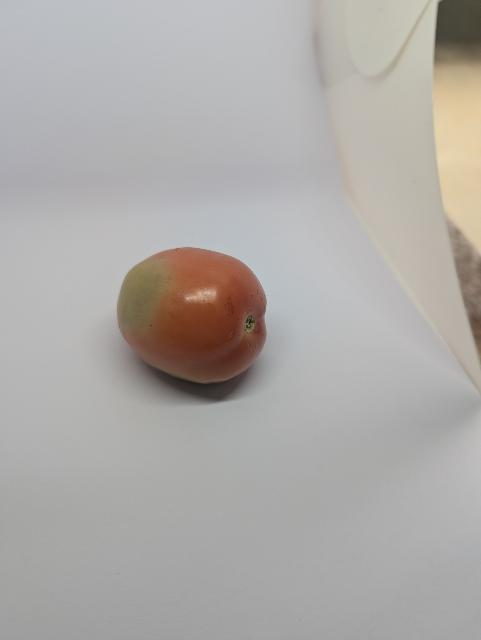turning: (117, 242, 282, 392)
